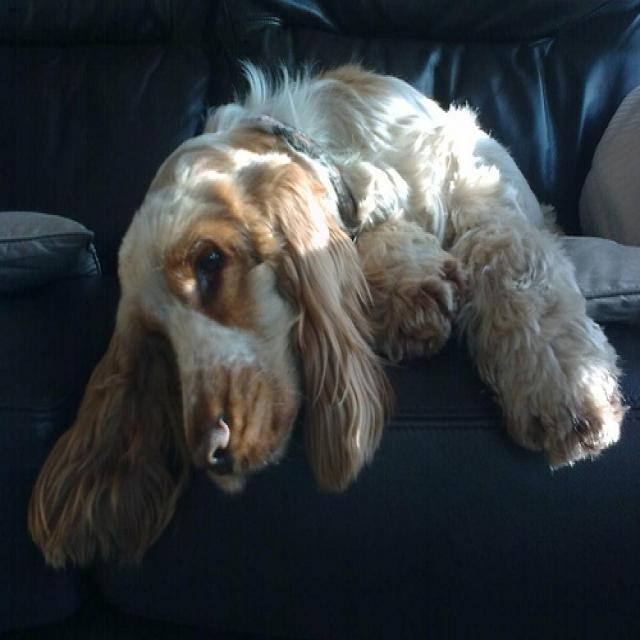dog-english_cocker_spaniel: (20, 51, 637, 570)
